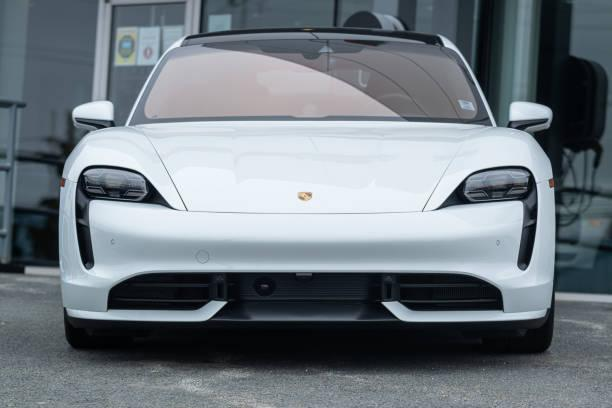porsche: (292, 187, 318, 205)
